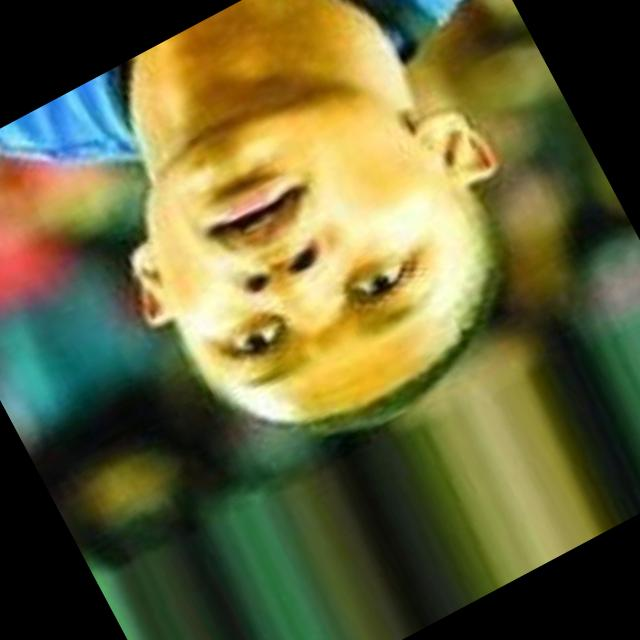bareface: (46, 31, 566, 518)
